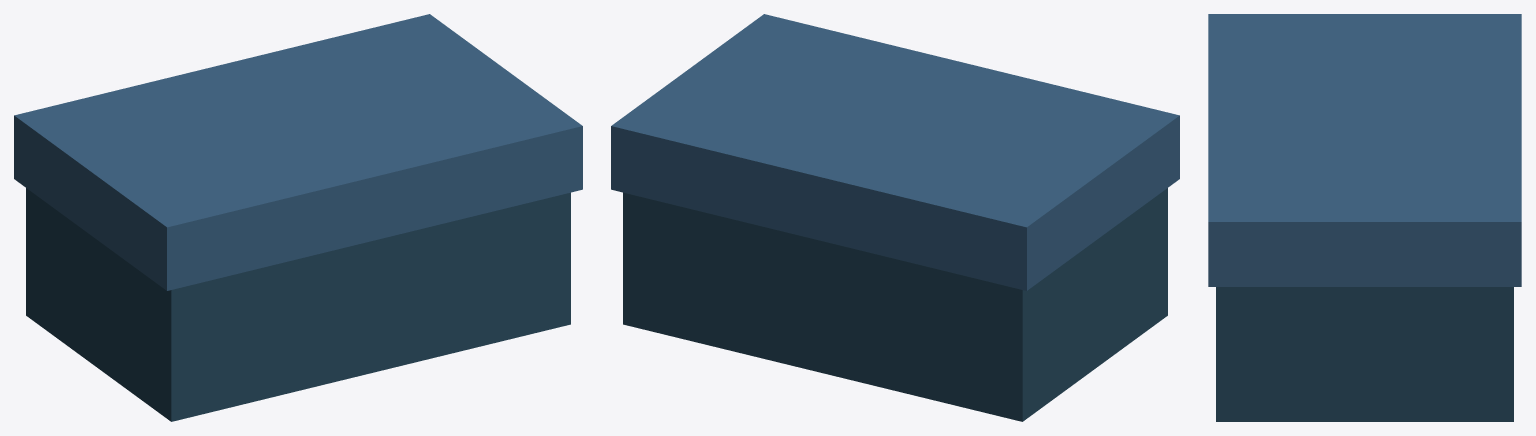
The model's file is SM_Prop_ShoeBox_02.fbx.
3 views of the same model, side by side, from view 1: azimuth 30°, elevation 25°; view 2: azimuth 150°, elevation 25°; view 3: azimuth 270°, elevation 25° (orthographic). The views are drawn at different scales.
Visible parts, largest first — view 1: SM_Prop_ShoeBox_02; view 2: SM_Prop_ShoeBox_02; view 3: SM_Prop_ShoeBox_02.
Boxes of the visible parts, bbox=[...] form: SM_Prop_ShoeBox_02: bbox=[14, 14, 582, 421]; SM_Prop_ShoeBox_02: bbox=[611, 14, 1179, 421]; SM_Prop_ShoeBox_02: bbox=[1208, 14, 1521, 421].
Size of the model in its own units: 28.93 by 13.25 by 18.45.
